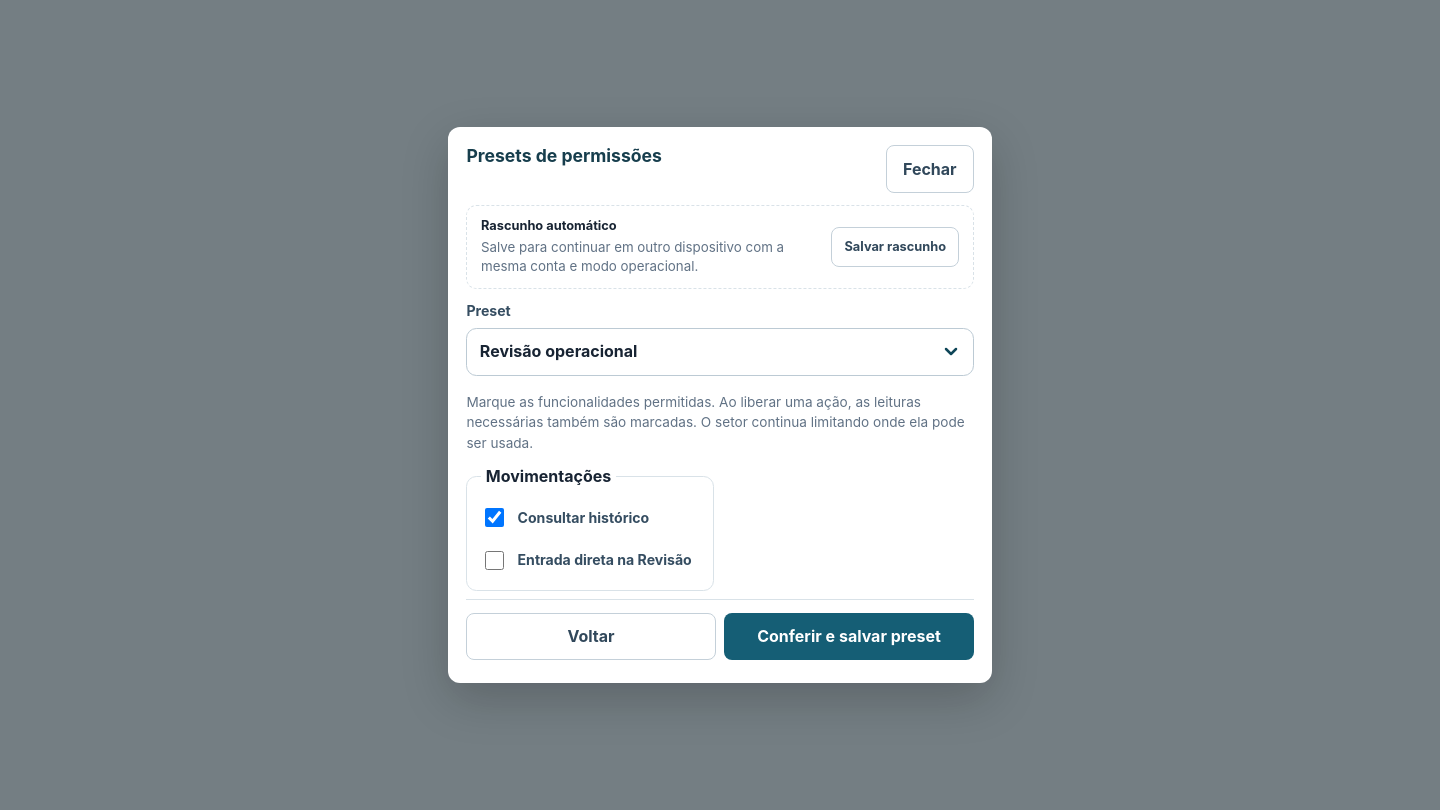
Test: Gestão de permissões individuais e presets › mostra erro do servidor e mantém a confirmação para correção
Click the button "Conferir e salvar preset": (849, 636) [724,612,974,660]
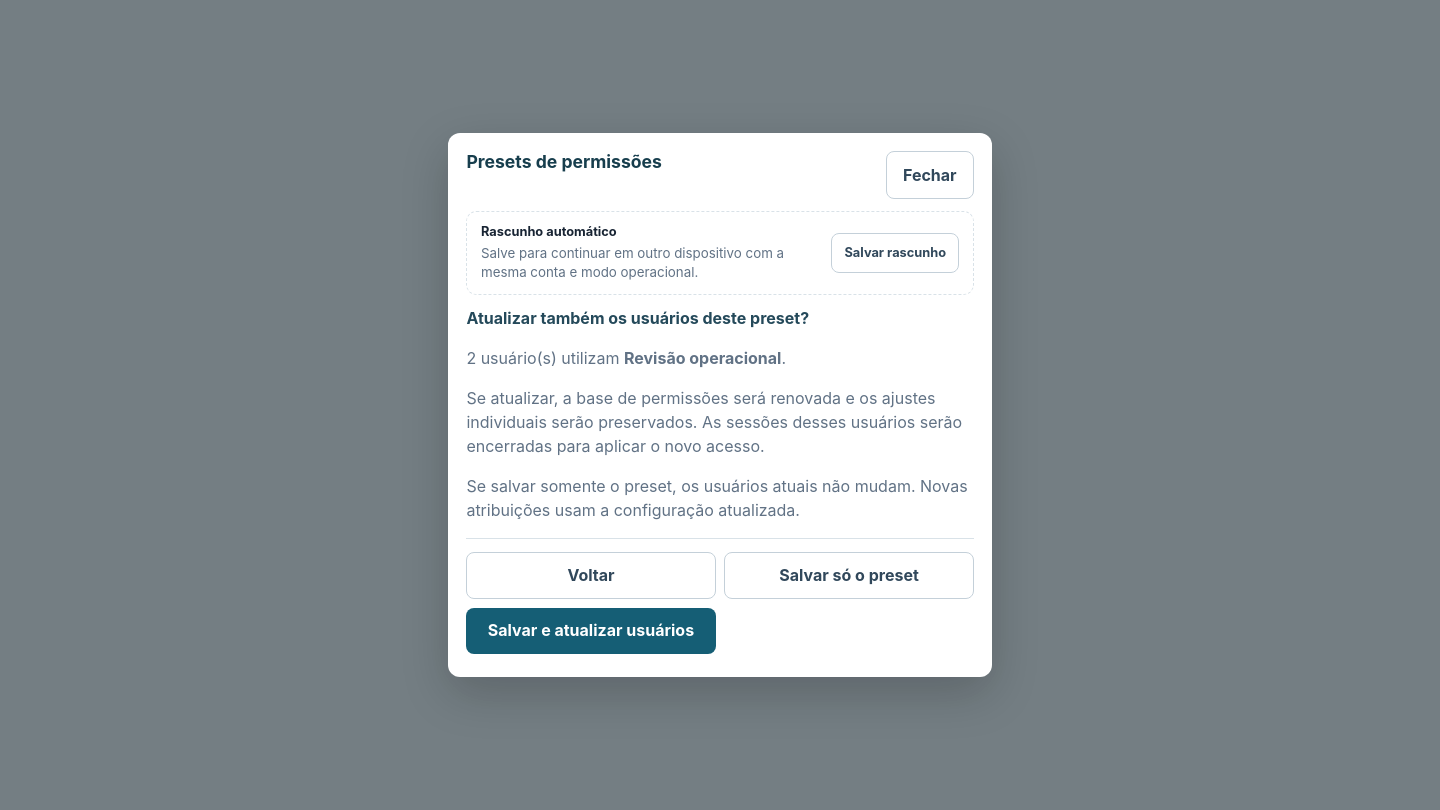
Check: the button "Salvar só o preset" is shown
Click the button "Salvar só o preset": (849, 576) [724,552,974,600]
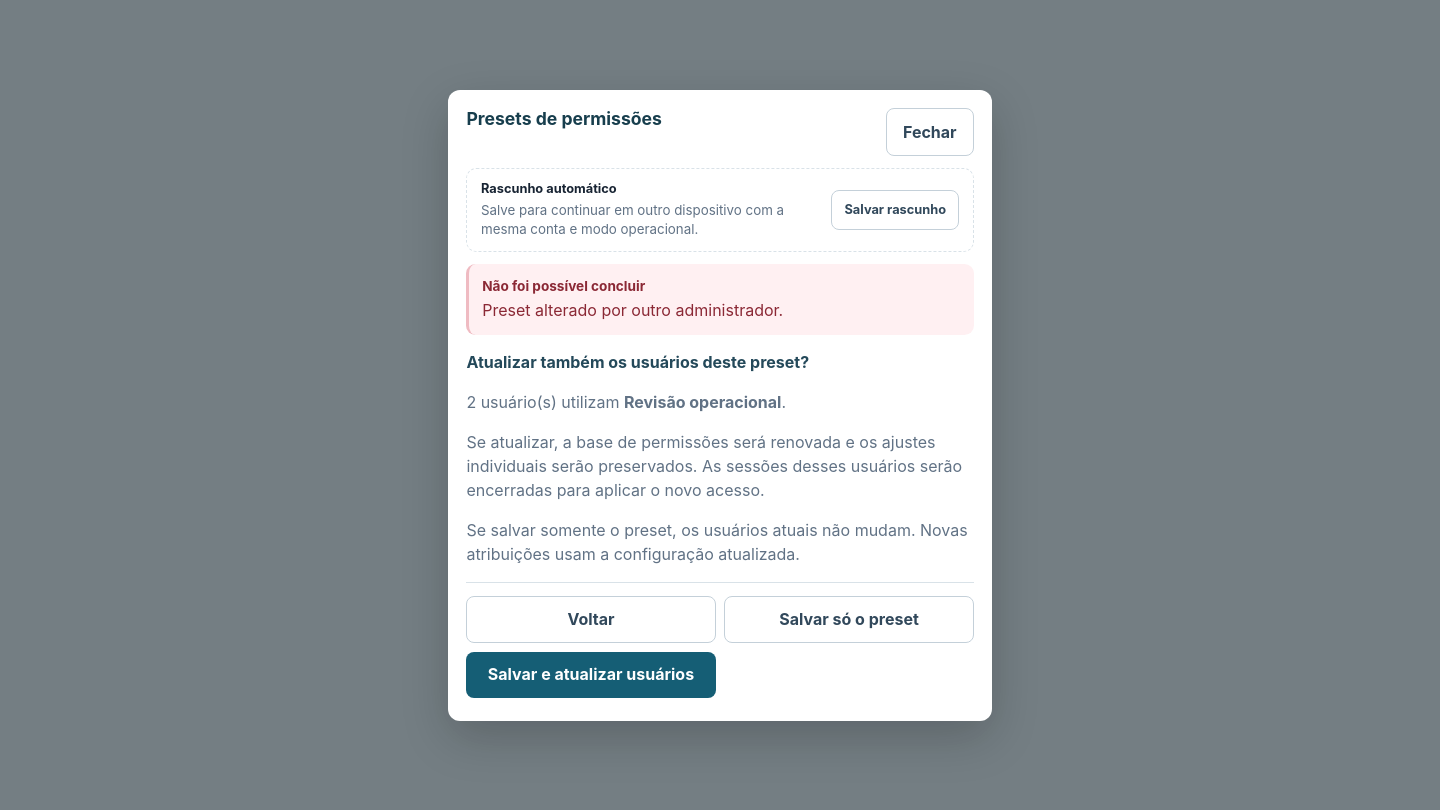
Check: the button "Salvar só o preset" is enabled, box [724,595,974,643]
Check: the text "Preset alterado por outro administrador." is shown, box [482,299,783,319]
